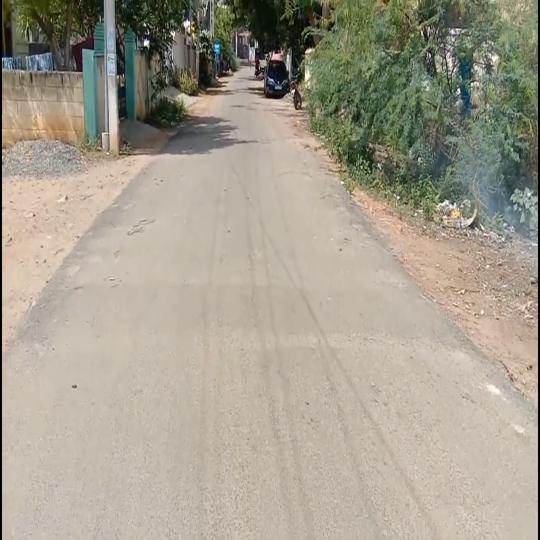Speed Bump: (16, 276, 470, 353)
